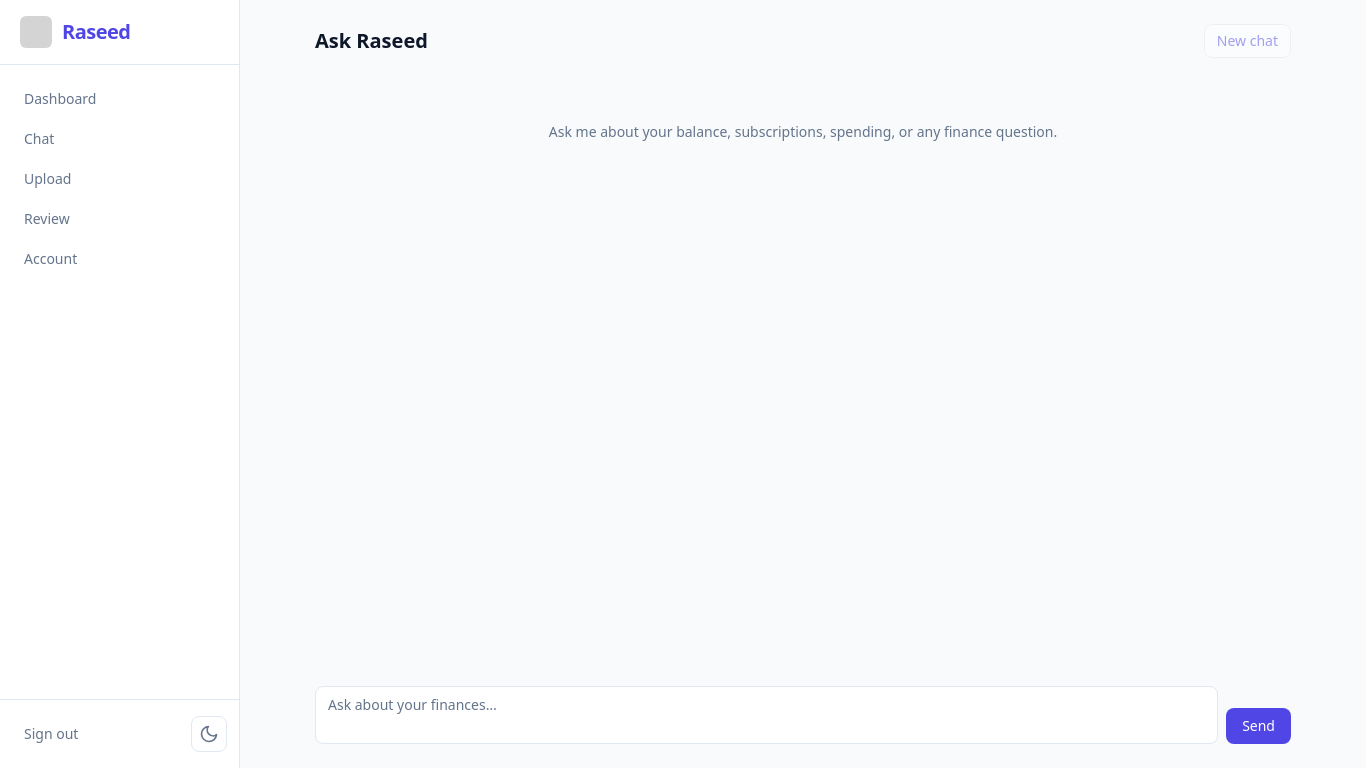
Test: Chat page › renders user message immediately
Type "balance?" into the text box with test id "chat-input" at (767, 715), box [315, 686, 1218, 744]
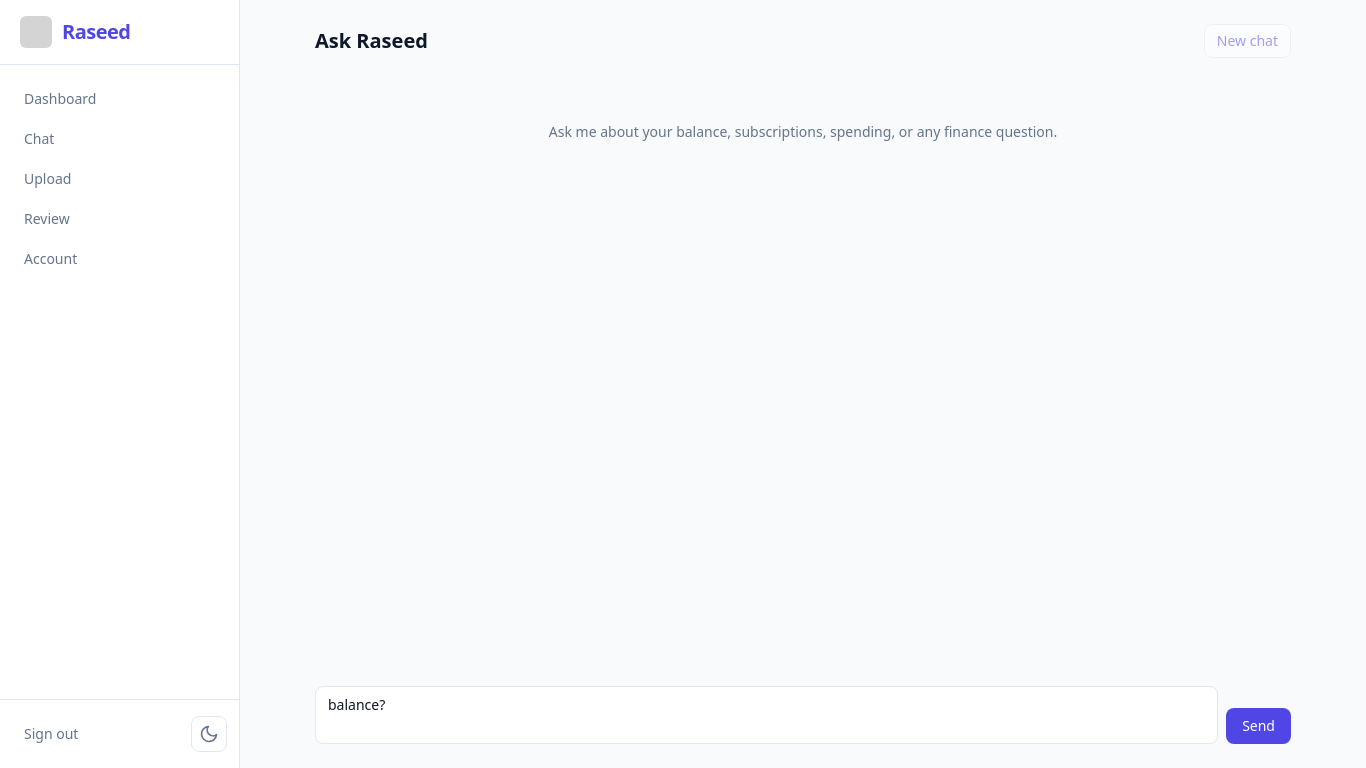
Click the button with test id "chat-send" at (1259, 726), box [1226, 708, 1291, 744]
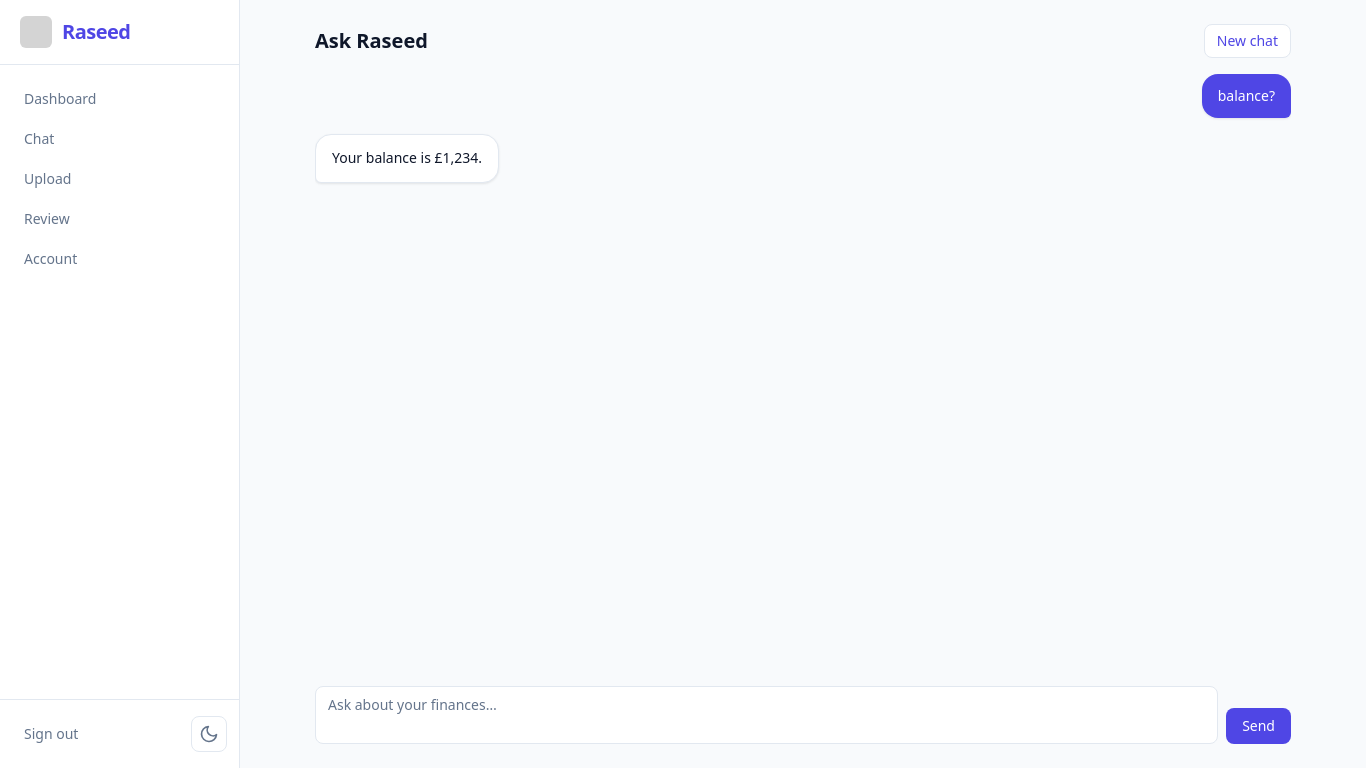
Now the text "balance?" is shown, box [1218, 86, 1275, 106]
